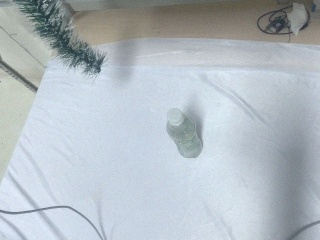bottle: (165, 107, 204, 159)
